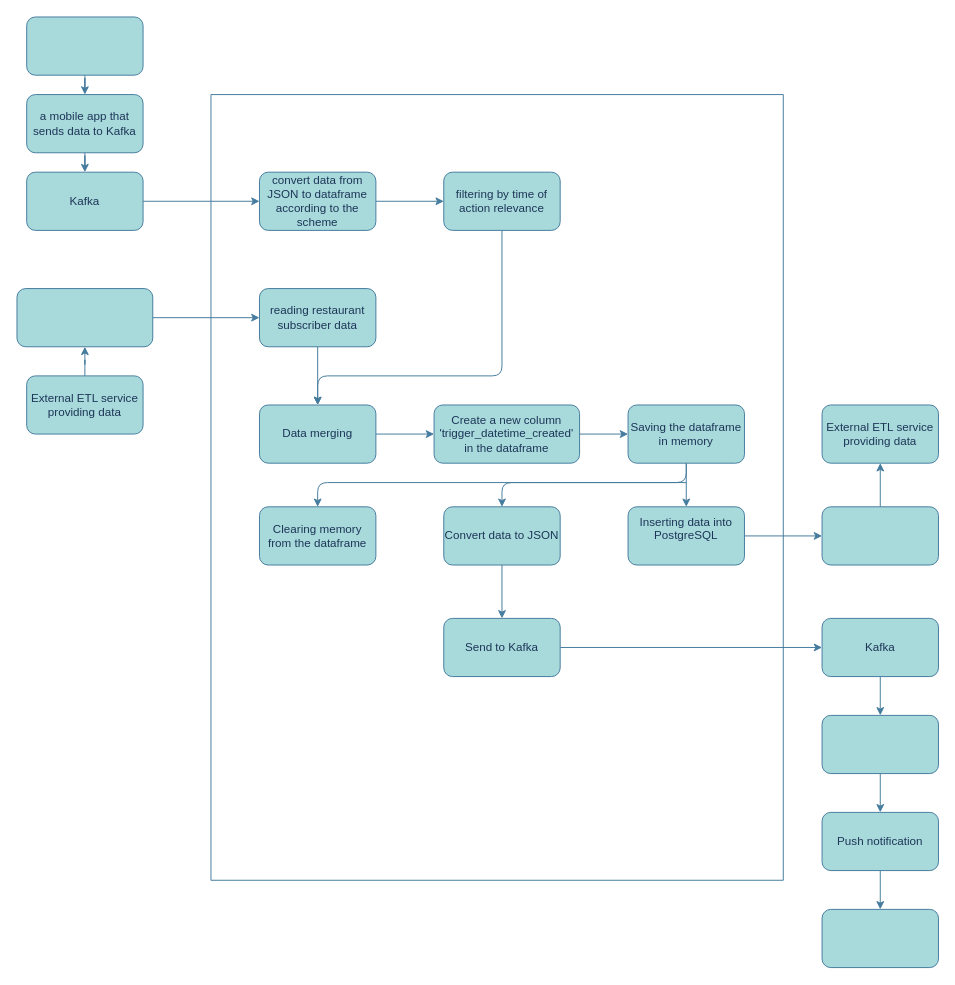
Some shapes in this 955 by 985 pixel diagram are drawn without their labels. Here are the shapes that lost their labels. From the top down, the box of each, then its label:
(26, 16, 143, 75): restaurant employee
(16, 288, 153, 347): Read data from the PostgreSQL table subscribers_restaurants
(210, 94, 783, 880): Work process
(821, 506, 938, 565): Write data to the PostgreSQL table 'subscribers_feedback'
(821, 714, 938, 774): Notification service
(821, 908, 938, 968): Users
